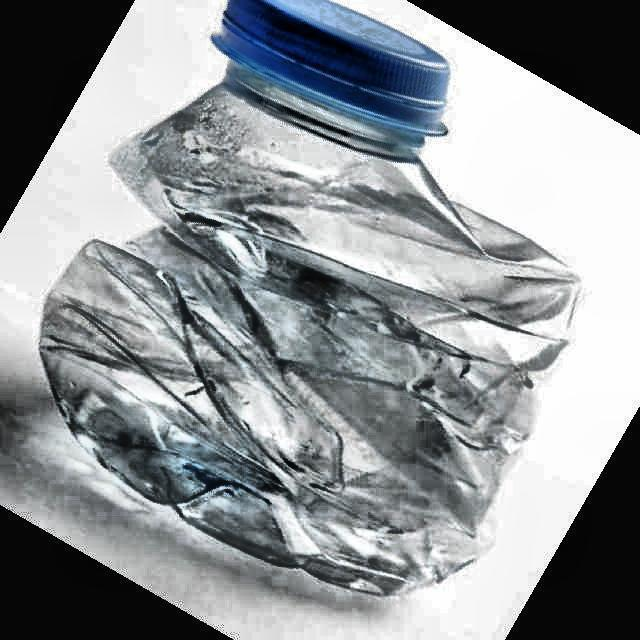plastic: (40, 0, 578, 593)
